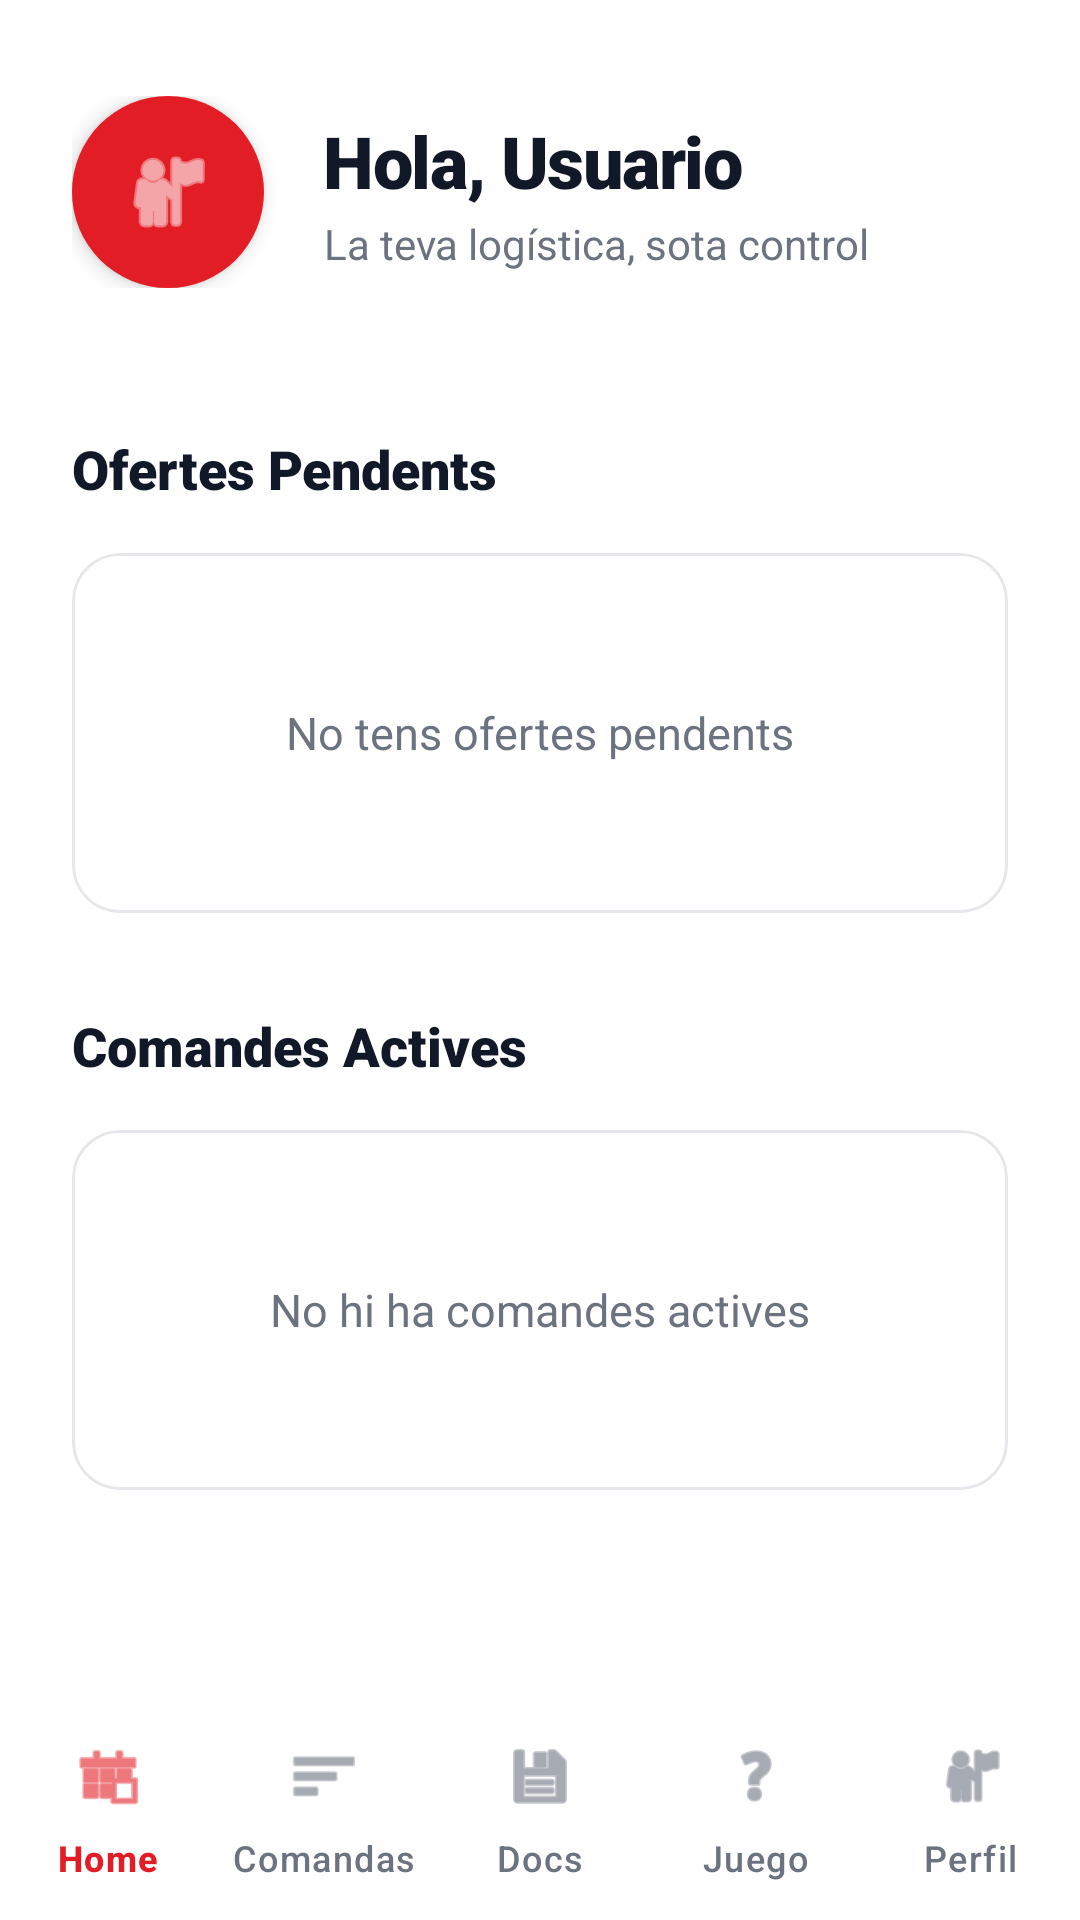

Named icons in this screenshot (1080×1920) and their bounding boxes, (x1, y1, x2, y2):
myplaces: (133, 156, 205, 228)
